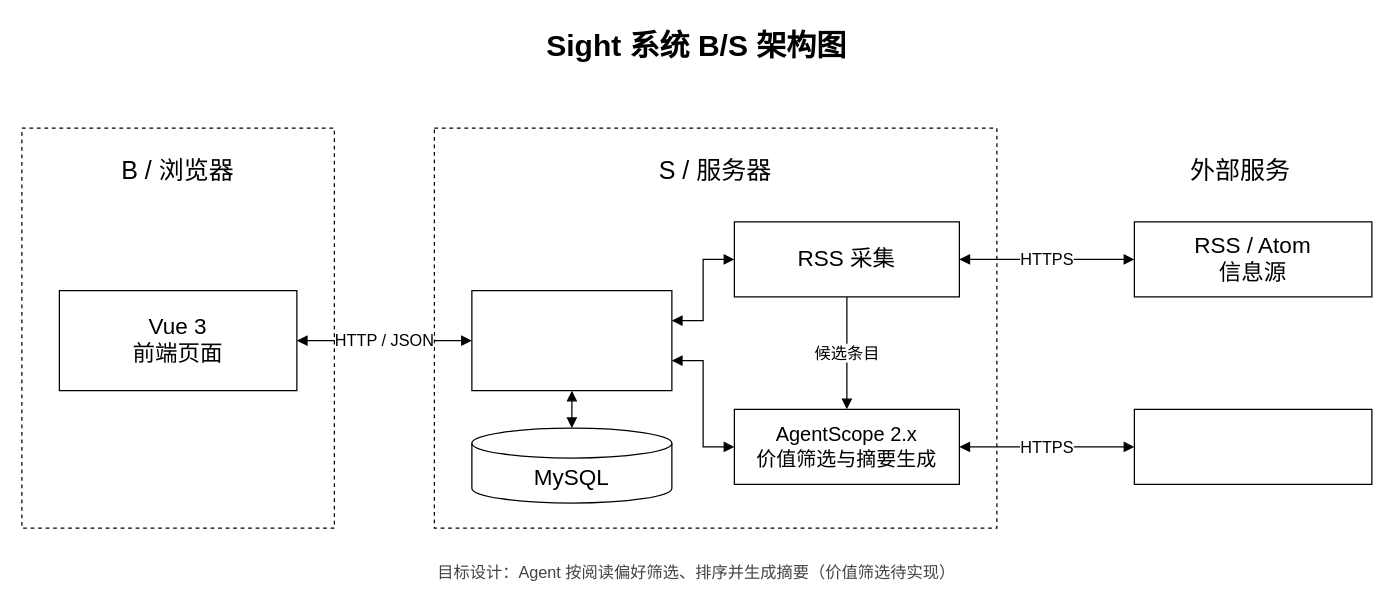
This 1394x611 diagram has some shape labels left out. The shapes that lost their labels are listed below. From the top down, each one's centre as x and y in pixels, then its label:
At [571,340]: "Flask API 业务编排".
At [1252,446]: "DeepSeek API".
